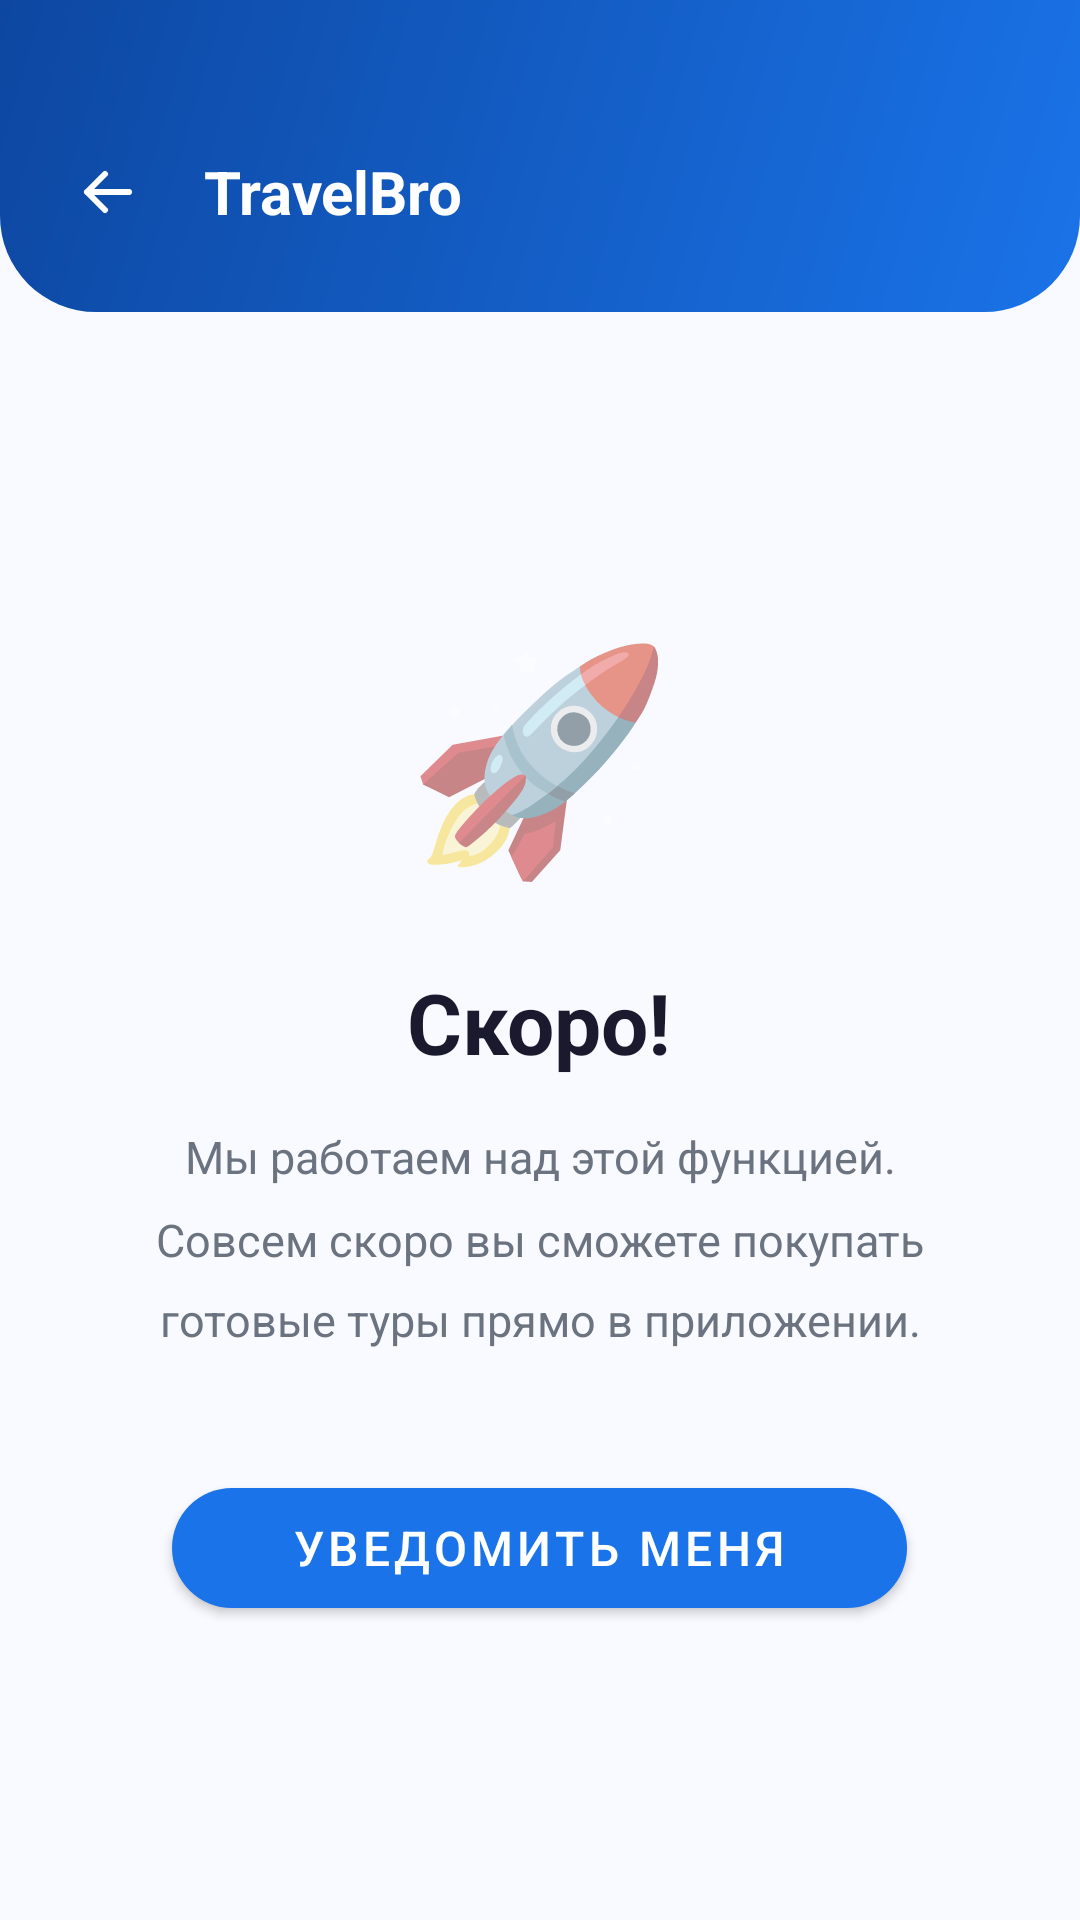

Where icons sit on this 1080 × 1920 app screen, as (x1, y1, x2, y2):
back: (84, 171, 132, 213)
